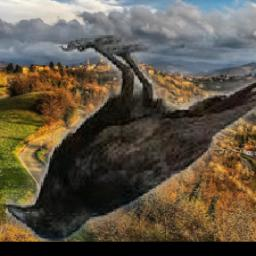Crow: (6, 36, 256, 242)
